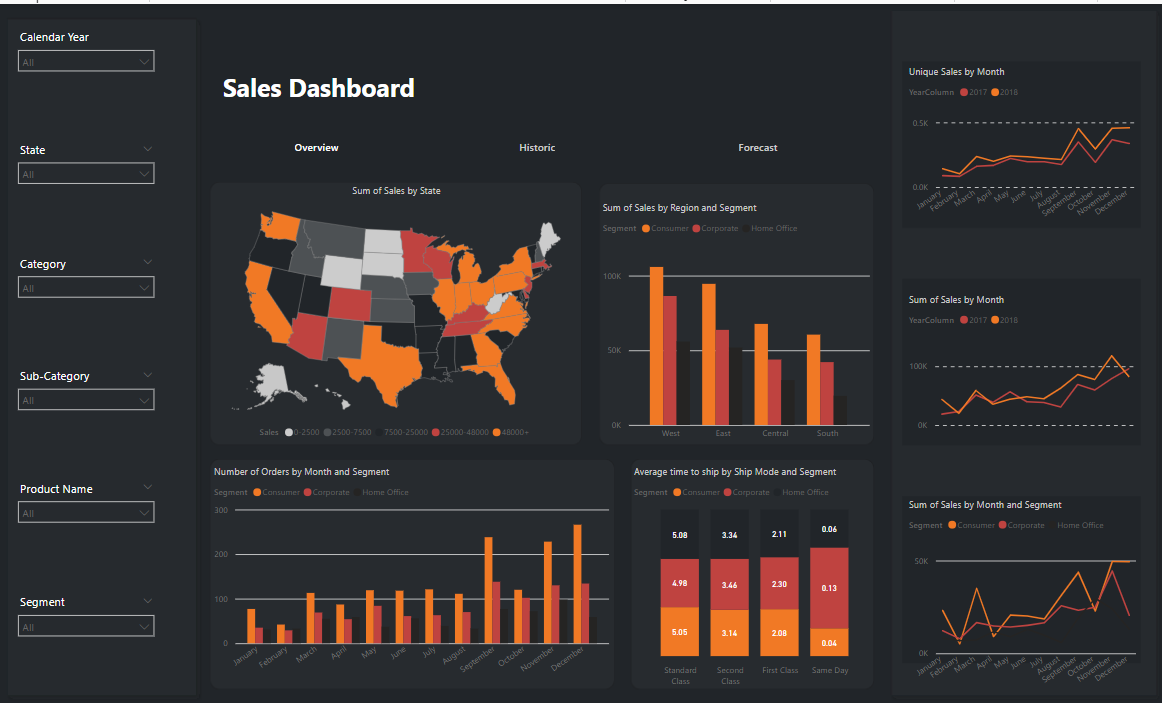

The page's visual inventory and layout, read from the dashboard file:
{"tool":"powerbi","page":{"name":"Overview","canvas":[1500,900],"ordinal":0},"visuals":[{"type":"textbox","box":[281.2,79.7,281.2,64.1],"z":0},{"type":"pageNavigator","box":[270.3,159.4,843.8,50],"z":1000},{"type":"slicer","fields":{"Values":["train.State"]},"box":[13.4,172.5,195.3,103.1],"z":2000},{"type":"slicer","fields":{"Values":["train.Product Name"]},"box":[13.4,608.4,195.3,103.1],"z":3000},{"type":"slicer","fields":{"Values":["train.Category"]},"box":[13.4,317.8,195.3,103.1],"z":4000},{"type":"slicer","fields":{"Values":["train.YearColumn"]},"box":[13.4,27.2,195.3,103.1],"z":5000},{"type":"slicer","fields":{"Values":["train.Sub-Category"]},"box":[13.4,463.1,195.3,103.1],"z":6000},{"type":"slicer","fields":{"Values":["train.Segment"]},"box":[13.4,753.8,195.3,103.1],"z":7000},{"type":"shapeMap","title":"Sum of Sales by State","fields":{"Category":["StateSum.State"],"Series":["StateSum.SumCat"],"Value":["Sum(StateSum.Sales)"]},"box":[270,231.6,479.6,337],"z":8000},{"type":"lineChart","title":"Sum of Sales by Month","fields":{"Category":["train.Order Date.Variation.Date Hierarchy.Month"],"Y":["Sum(train.Sales)"],"Series":["train.YearColumn"]},"box":[1164.1,371.9,301.6,182.8],"z":9000},{"type":"clusteredColumnChart","title":"Number of Orders by Month and Segment","fields":{"Y":["CountNonNull(train.Row ID)"],"Category":["train.Order Date.Variation.Date Hierarchy.Month"],"Series":["train.Segment"]},"box":[270.3,593.8,518.8,279.7],"z":10000},{"type":"hundredPercentStackedColumnChart","title":"Average time to ship by Ship Mode and Segment","fields":{"Category":["train.Ship Mode"],"Y":["Avg(train.DaysDifference)"],"Series":["train.Segment"]},"box":[810.9,593.8,314.1,292.2],"z":11000},{"type":"lineChart","title":"Unique Sales by Month","fields":{"Y":["CountNonNull(train.Sales)"],"Category":["train.Order Date.Variation.Date Hierarchy.Month"],"Series":["train.YearColumn"]},"box":[1164.2,78.8,302.3,207.4],"z":11002},{"type":"clusteredColumnChart","fields":{"Y":["Sum(train.Sales)"],"Category":["train.Region"],"Series":["train.Segment"]},"box":[770.3,254.1,353.8,315.2],"z":11003},{"type":"lineChart","fields":{"Y":["Sum(train.Sales)"],"Series":["train.Segment"],"Category":["train.Order Date.Variation.Date Hierarchy.Month"]},"box":[1164.2,635.2,302.3,250.9],"z":11004}]}

Visuals, with their boxes in screenshot pixels (x1, y1, x2, y2), scaled from the page's 1500x900 canvas onto the 1162x703 screenshot:
textbox: 218, 62, 436, 112
pageNavigator: 209, 125, 863, 164
slicer - train.State: 10, 135, 162, 215
slicer - train.Product Name: 10, 475, 162, 556
slicer - train.Category: 10, 248, 162, 329
slicer - train.YearColumn: 10, 21, 162, 102
slicer - train.Sub-Category: 10, 362, 162, 442
slicer - train.Segment: 10, 589, 162, 669
"Sum of Sales by State" shapeMap: 209, 181, 581, 444
"Sum of Sales by Month" lineChart: 902, 290, 1135, 433
"Number of Orders by Month and Segment" clusteredColumnChart: 209, 464, 611, 682
"Average time to ship by Ship Mode and Segment" hundredPercentStackedColumnChart: 628, 464, 871, 692
"Unique Sales by Month" lineChart: 902, 62, 1136, 224
clusteredColumnChart - Sum(train.Sales) x train.Region: 597, 198, 871, 445
lineChart - Sum(train.Sales) x train.Segment: 902, 496, 1136, 692
